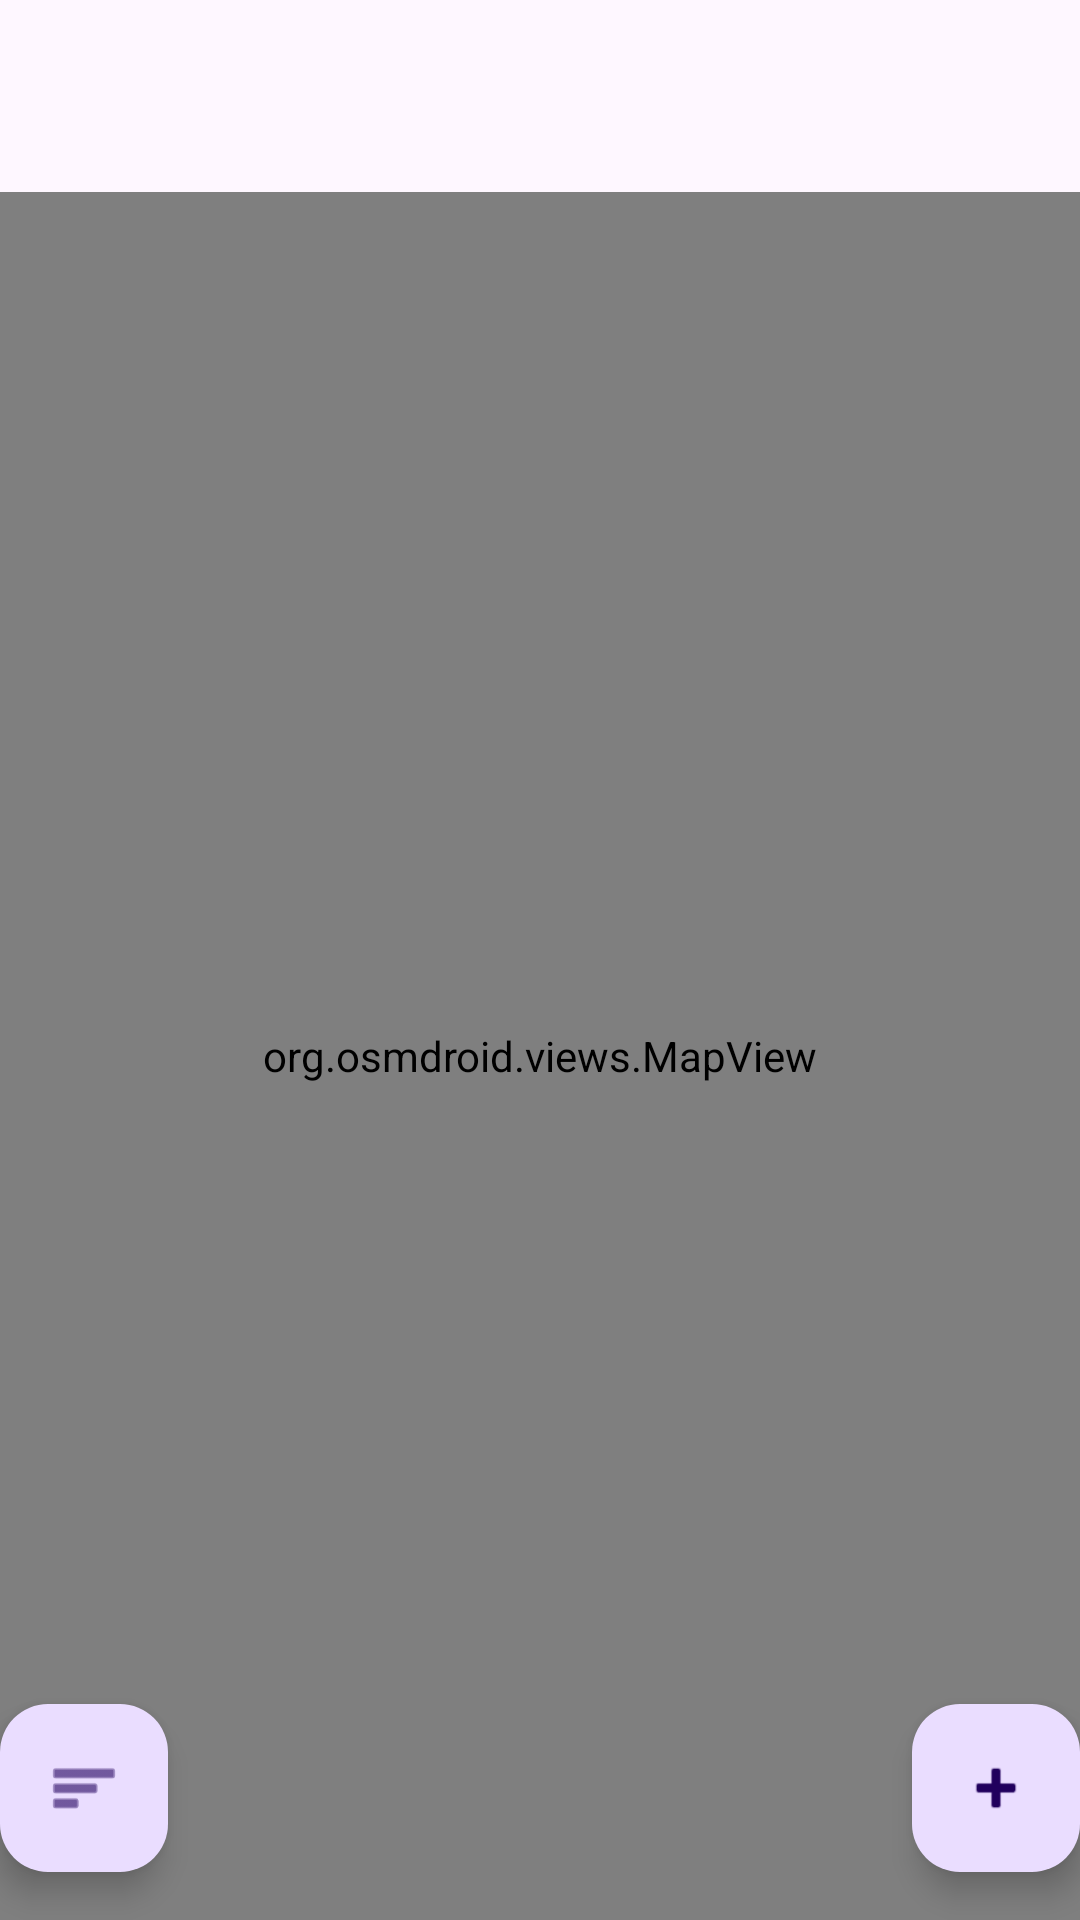

Locate icon controls on the screen. Image size 1080px x 1920px, boxes as (x1, y1, x2, y2).
add: (912, 1704, 1080, 1872)
sort by size: (0, 1704, 168, 1872)
